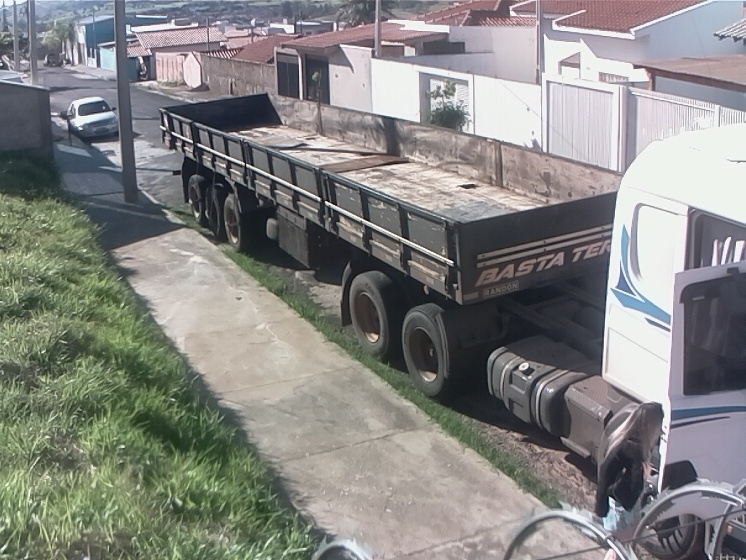person: (596, 399, 663, 560)
